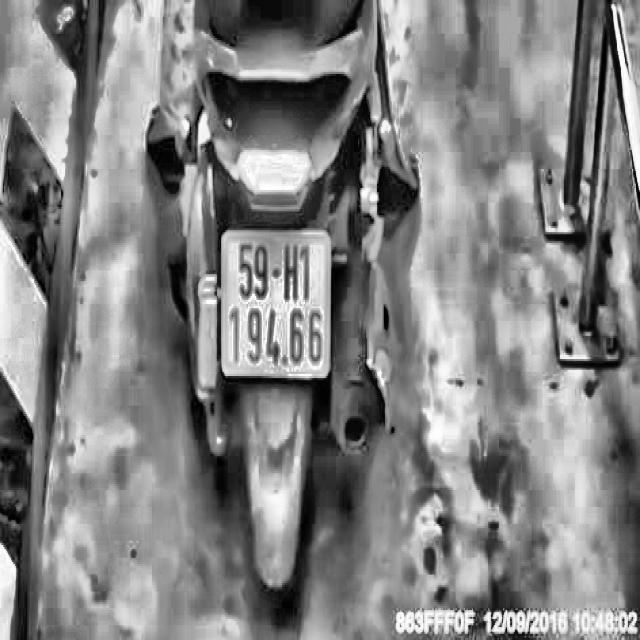plate: (216, 223, 334, 386)
